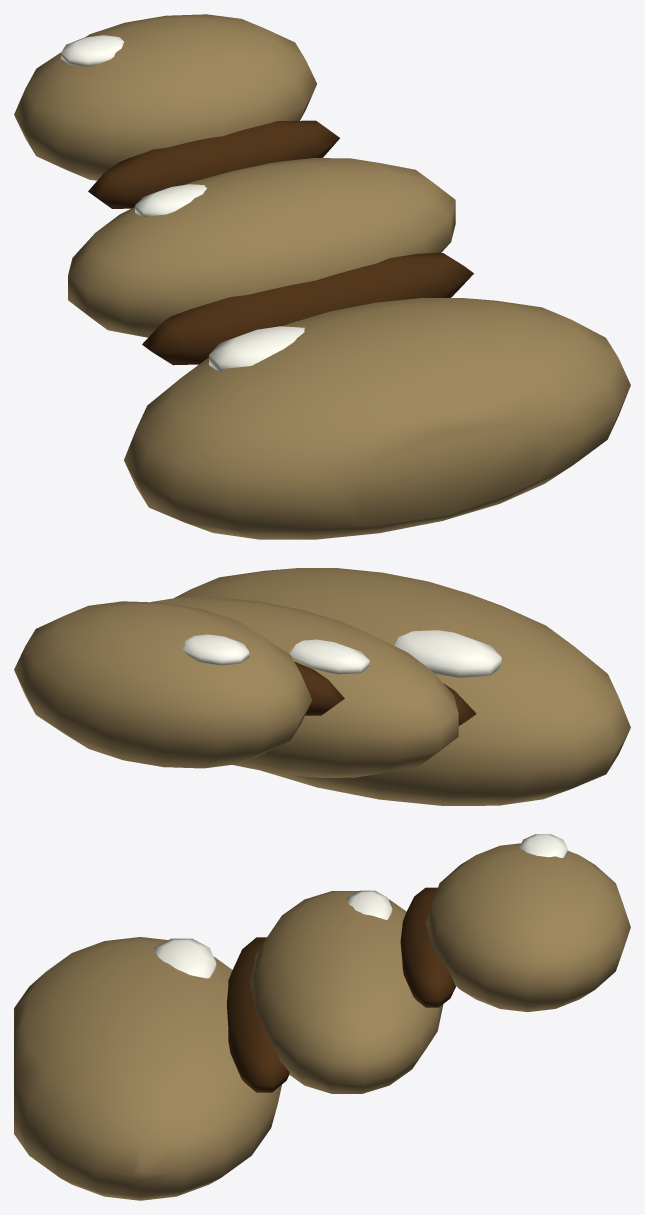
Rendered from newshp-115.glb.
3 views of the same model, one above another, from view 1: azimuth 30°, elevation 25°; view 2: azimuth 150°, elevation 25°; view 3: azimuth 270°, elevation 25° (orthographic). The views are drawn at different scales.
Parts seen in each view (by area): view 1: newshp-115; view 2: newshp-115; view 3: newshp-115.
Part boxes in pixels (<box>): newshp-115: <box>14,14,630,539</box>; newshp-115: <box>14,568,630,805</box>; newshp-115: <box>14,834,630,1200</box>.
Bounding box in the file's own units: 1.59 × 0.89 × 1.99.
